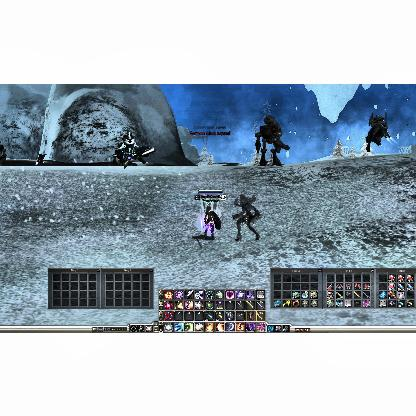caliana: (232, 194, 260, 240)
